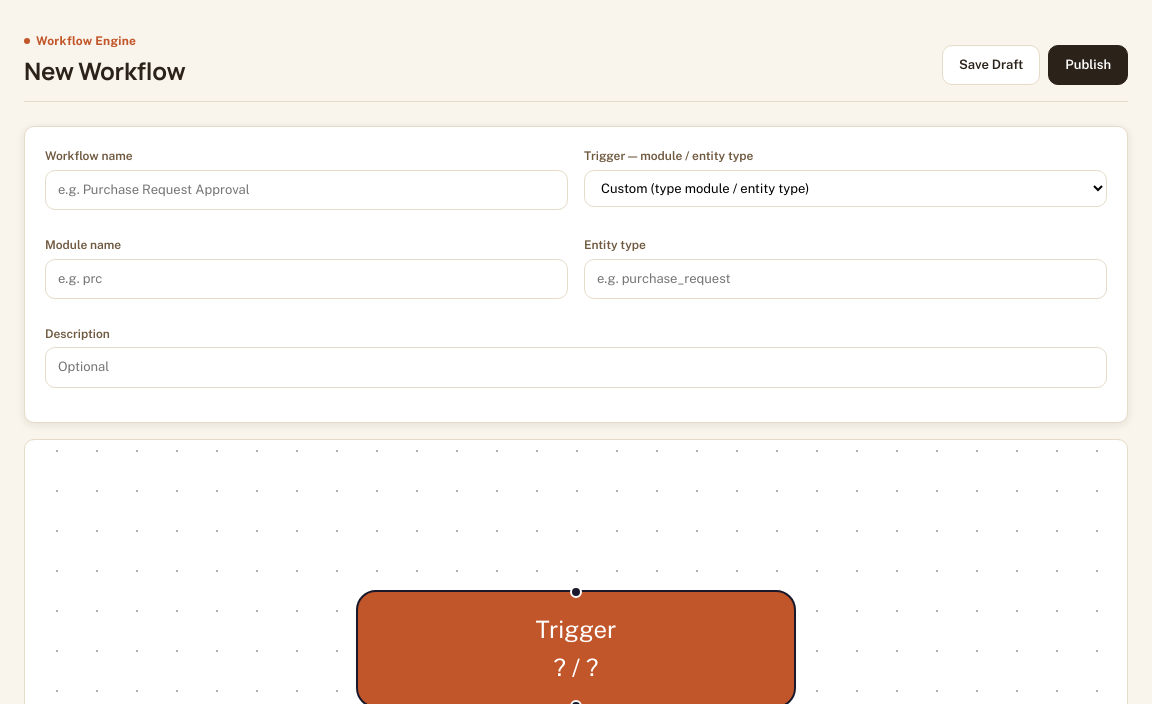
Test: WorkflowBuilderPage — validation › blocks publish and shows real errors for an empty draft
The image size is (1152, 704).
Click the button "Publish" at point(1088, 65), box x1=1048 y1=45 x2=1128 y2=85
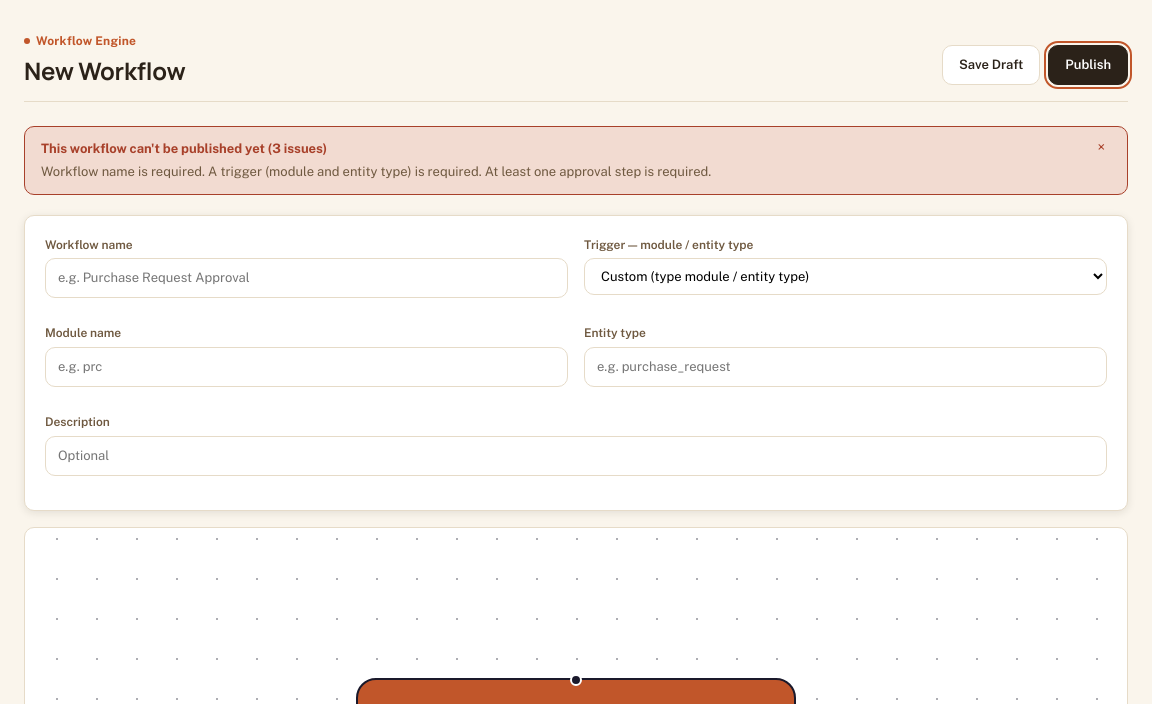
Check: the text "This workflow can't be published yet (3 issues)" is shown, box x1=41 y1=141 x2=327 y2=156
